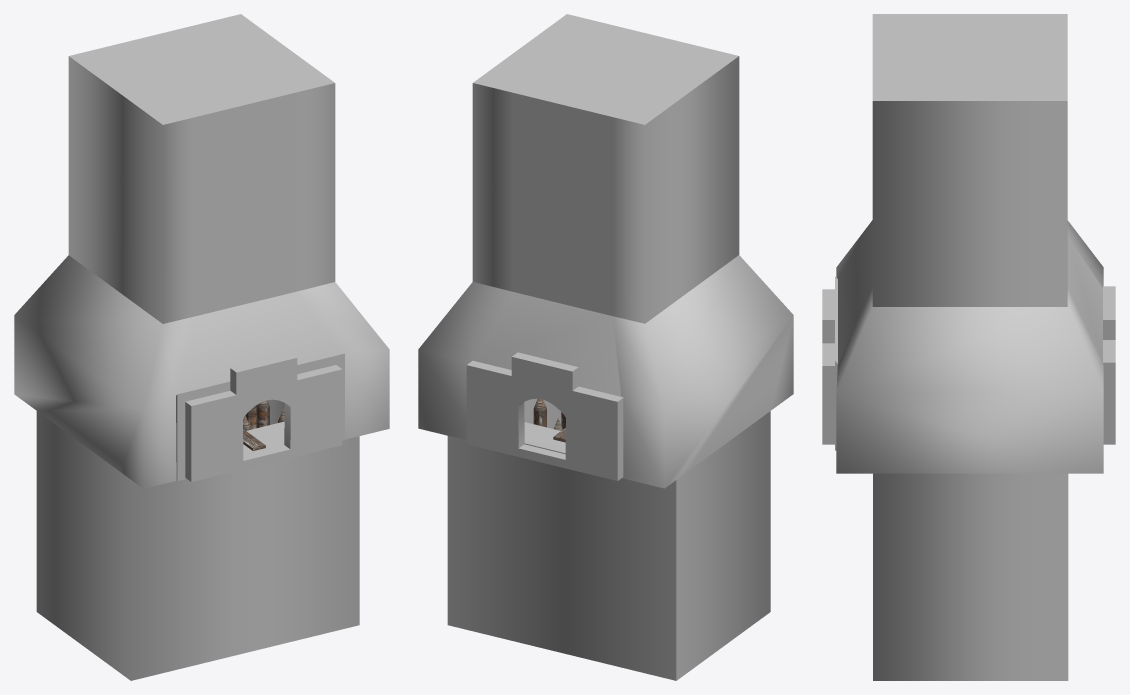
File: TowerOfDeath.fbx
3 renders of one model, left to right at view 1: azimuth 30°, elevation 25°; view 2: azimuth 150°, elevation 25°; view 3: azimuth 270°, elevation 25°, orthographic. The views are drawn at different scales.
Parts seen in each view (by area): view 1: Group5_TowerOfDeath, Group5_TowerOfDeathSpikes; view 2: Group5_TowerOfDeath; view 3: Group5_TowerOfDeath.
Part boxes in pixels (box(x1,y1,x2,y2)): Group5_TowerOfDeath: box(14, 14, 389, 680); Group5_TowerOfDeathSpikes: box(243, 400, 284, 430); Group5_TowerOfDeath: box(418, 14, 793, 680); Group5_TowerOfDeath: box(822, 14, 1115, 680).
Bounding box in the file's own units: 1156 × 2460 × 1152.
